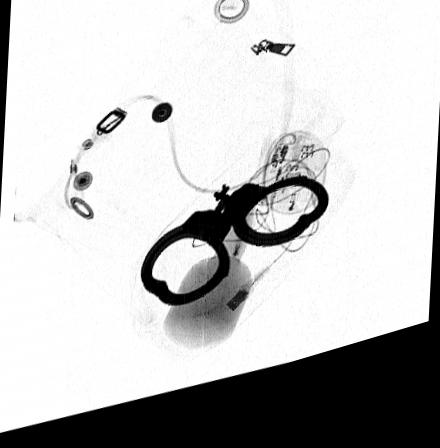HandCuffs: (138, 191, 331, 317)
